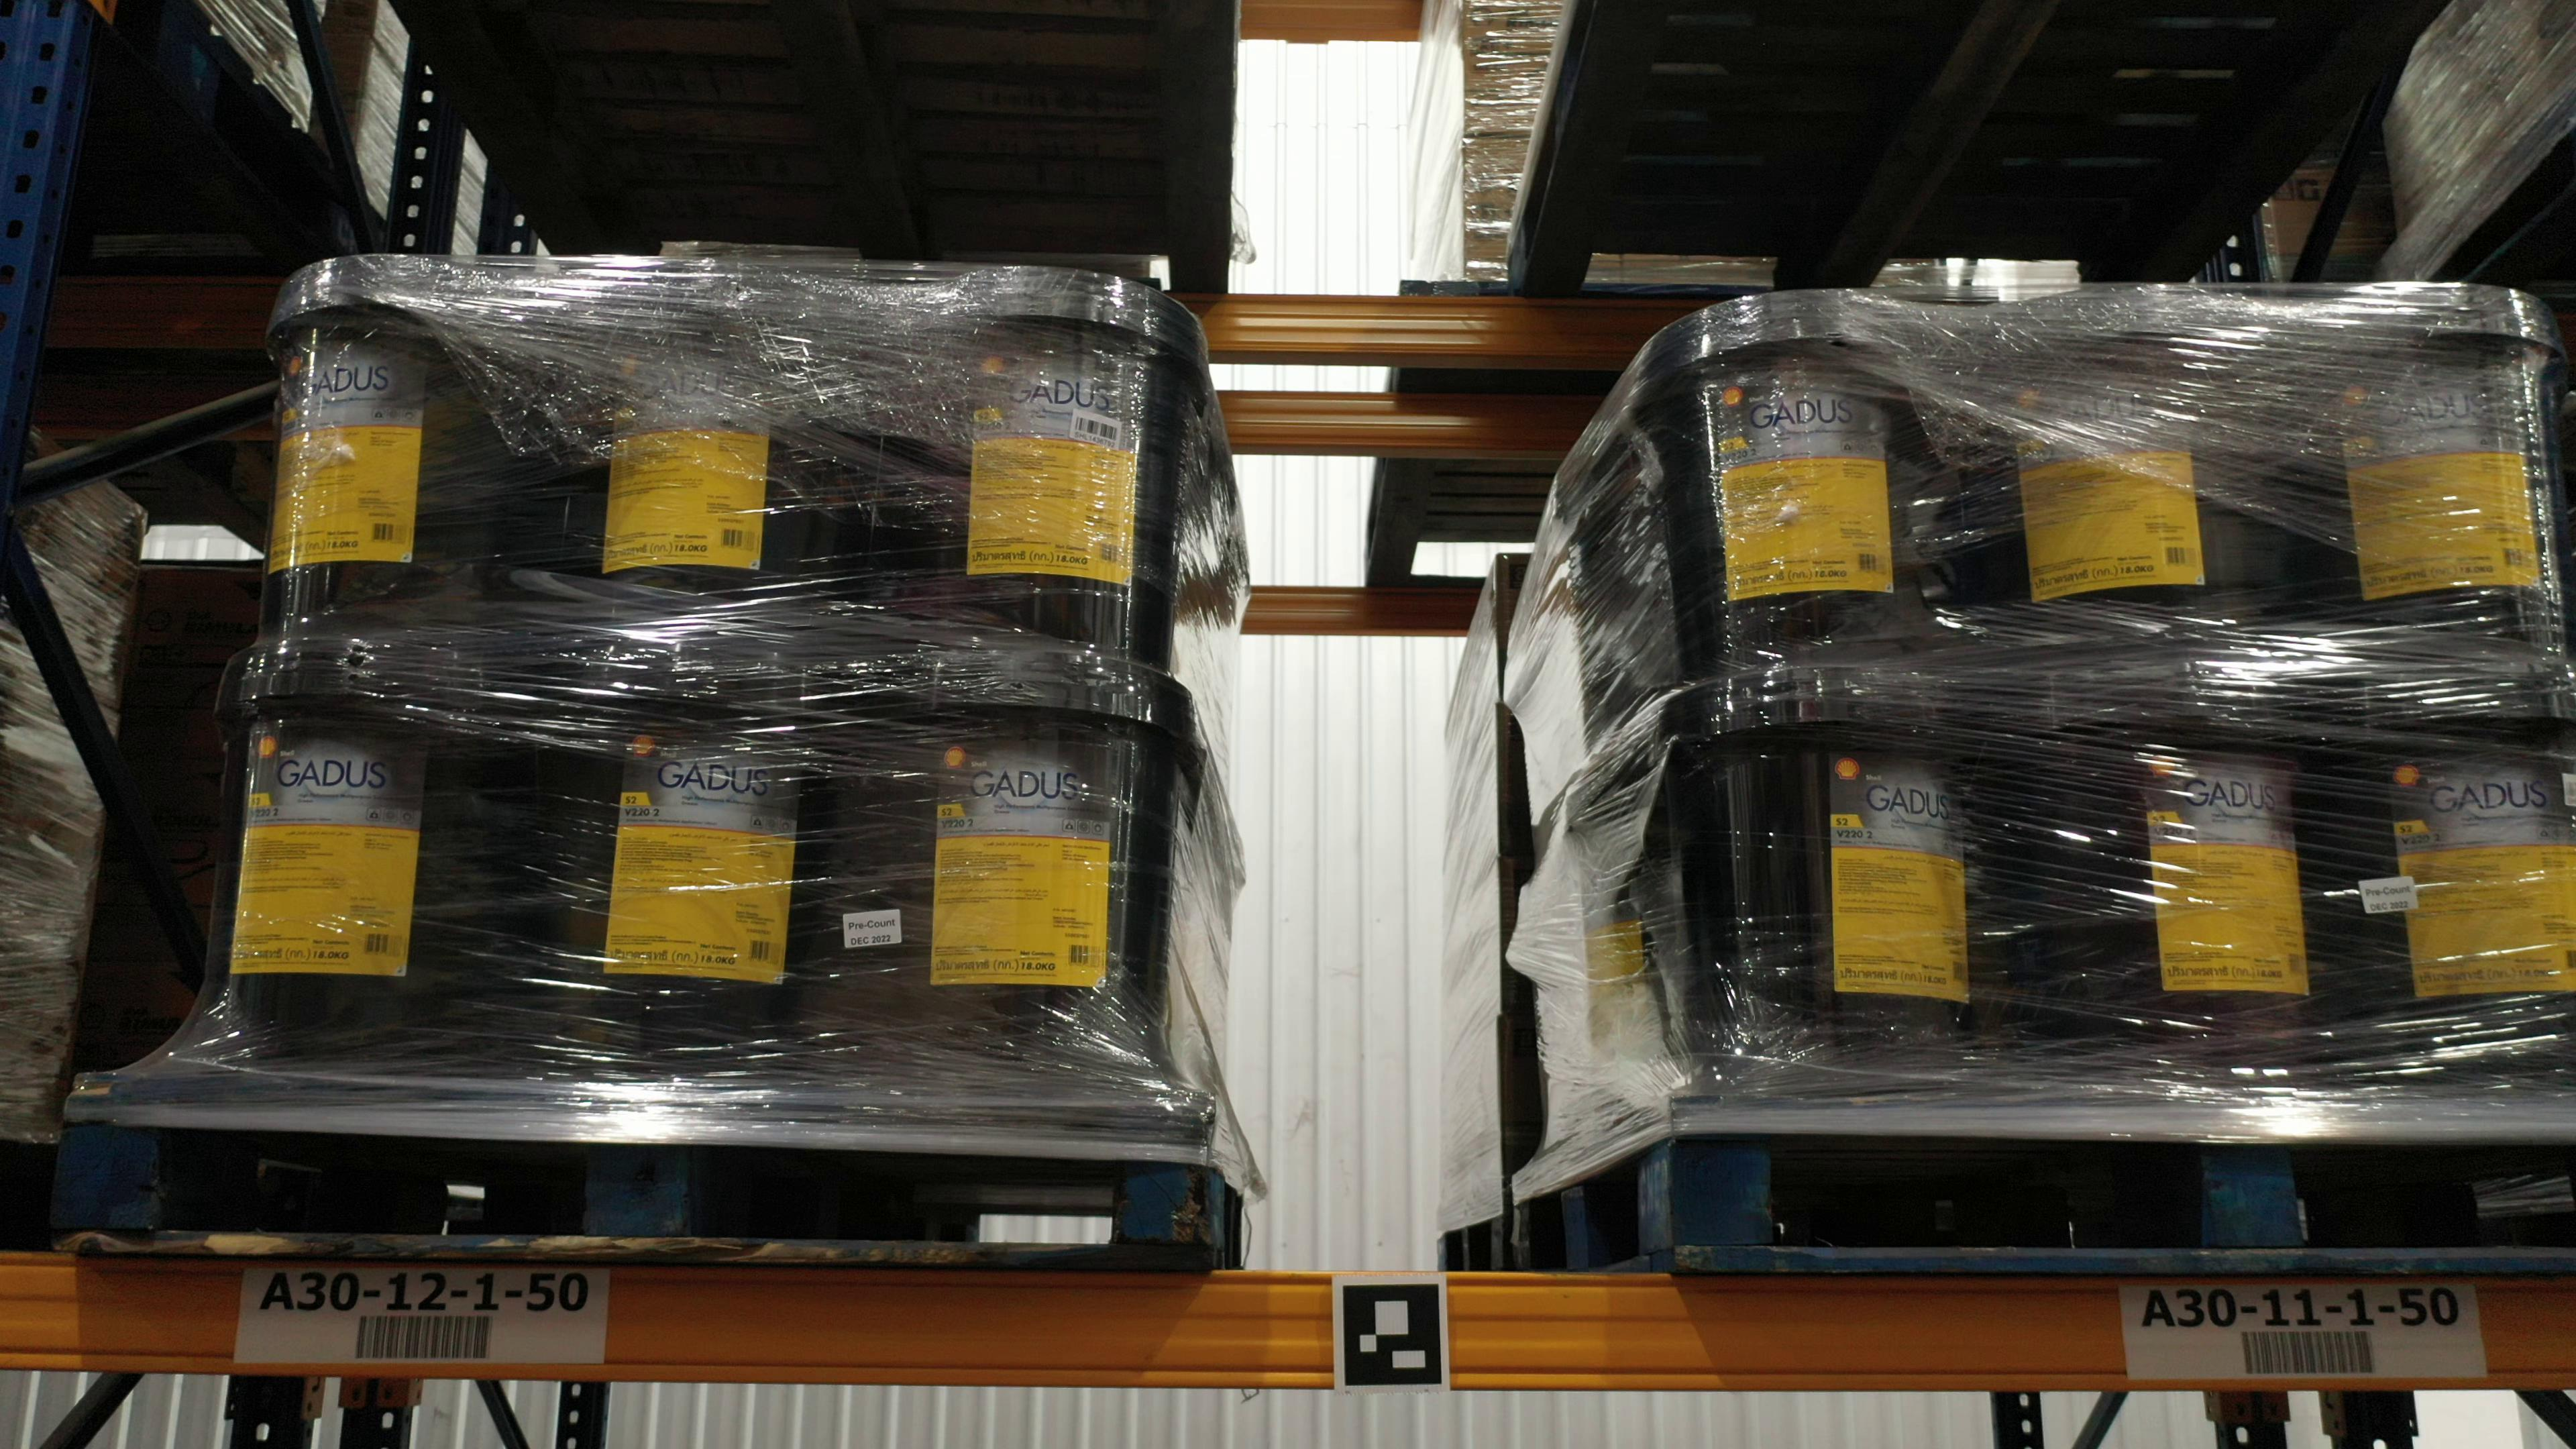-: (497, 644, 839, 1104), (855, 651, 1201, 1079), (1661, 663, 1999, 1093), (2019, 651, 2339, 1099), (892, 271, 1219, 676), (1629, 294, 1955, 685), (559, 262, 870, 663), (209, 637, 492, 1076), (1980, 287, 2277, 676), (255, 257, 527, 660), (2298, 274, 2569, 660), (2348, 639, 2576, 1093)
